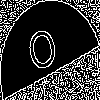O: (25, 25, 63, 83)
